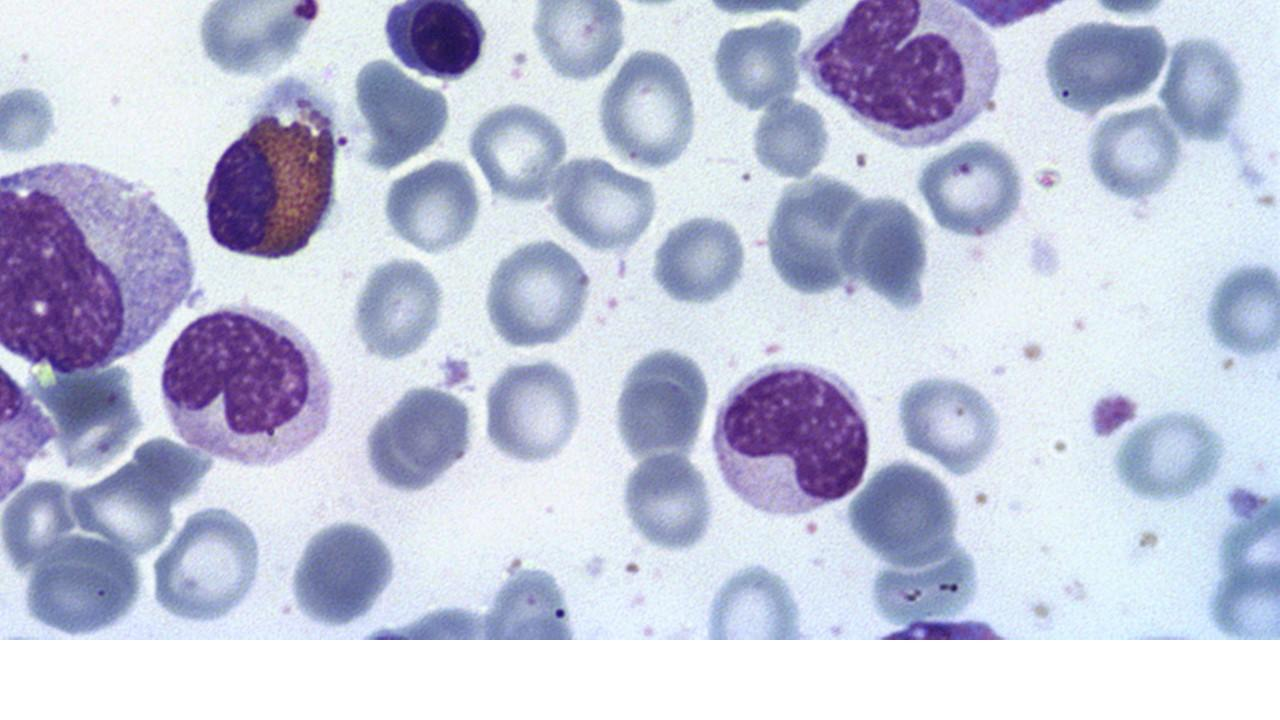Platelets: (1081, 384, 1141, 441), (1025, 232, 1063, 282), (433, 353, 472, 389)
RBC: (754, 168, 872, 298), (148, 502, 266, 626), (280, 513, 406, 628), (358, 380, 482, 494), (1198, 467, 1280, 636), (594, 46, 700, 174), (483, 235, 593, 352), (1109, 406, 1229, 507), (1040, 16, 1166, 112), (896, 365, 1008, 472), (479, 356, 586, 467), (914, 136, 1028, 240), (347, 254, 448, 363), (550, 155, 660, 254), (468, 99, 570, 204), (619, 450, 720, 554), (649, 207, 753, 306), (379, 154, 480, 254), (1156, 31, 1246, 141), (1082, 106, 1184, 202), (852, 197, 930, 312), (526, 0, 628, 86), (708, 19, 800, 113), (697, 564, 813, 636), (1202, 256, 1280, 358), (748, 95, 830, 182), (0, 79, 61, 157)
WBC: (0, 148, 201, 379), (149, 290, 340, 476), (800, 0, 1008, 152), (704, 352, 879, 523), (194, 75, 344, 266), (0, 353, 57, 526), (378, 0, 490, 82)
